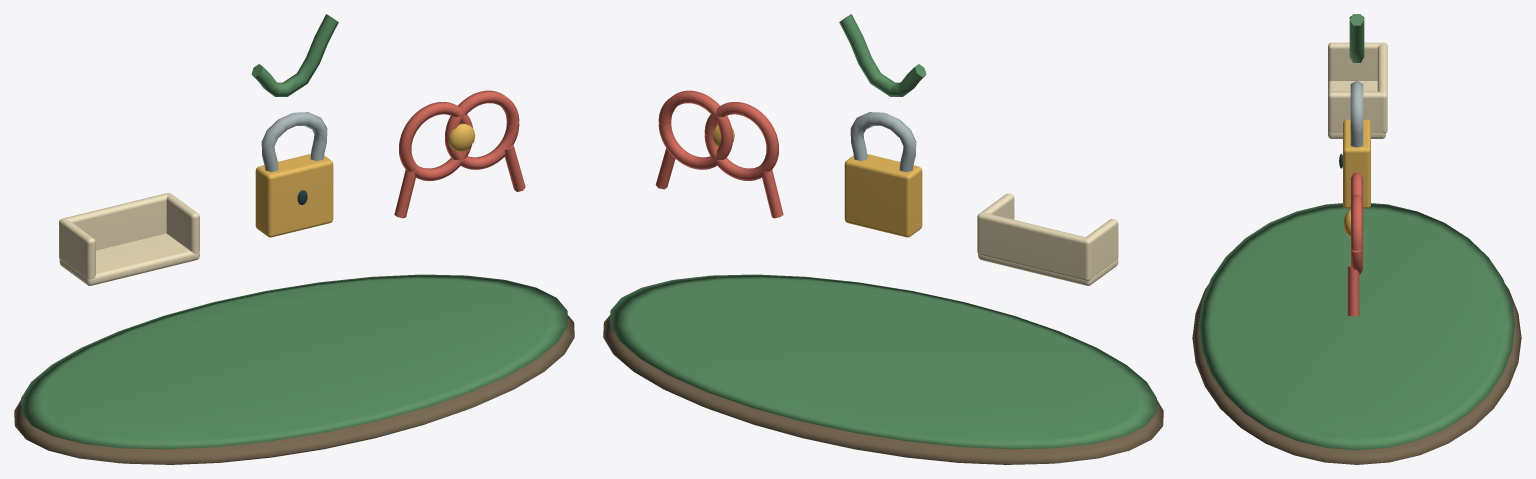
Rendered from complete-first-no-bound-connection.glb.
The picture shows the model from 3 angles, left to right: view 1: azimuth 30°, elevation 25°; view 2: azimuth 150°, elevation 25°; view 3: azimuth 270°, elevation 25°; orthographic projection. The views are drawn at different scales.
Parts seen in each view (by area): view 1: complete-first-no-bound-connection_surface_01, complete-first-no-bound-connection_surface_00, complete-first-no-bound-connection_surface_02, complete-first-no-bound-connection_surface_03, complete-first-no-bound-connection_surface_06, complete-first-no-bound-connection_surface_04; view 2: complete-first-no-bound-connection_surface_01, complete-first-no-bound-connection_surface_00, complete-first-no-bound-connection_surface_02, complete-first-no-bound-connection_surface_06, complete-first-no-bound-connection_surface_03, complete-first-no-bound-connection_surface_04; view 3: complete-first-no-bound-connection_surface_01, complete-first-no-bound-connection_surface_00, complete-first-no-bound-connection_surface_02, complete-first-no-bound-connection_surface_03, complete-first-no-bound-connection_surface_06, complete-first-no-bound-connection_surface_04.
Boxes of the visible parts, bbox=[...] form: complete-first-no-bound-connection_surface_01: bbox=[21, 14, 567, 449]; complete-first-no-bound-connection_surface_00: bbox=[14, 315, 574, 464]; complete-first-no-bound-connection_surface_02: bbox=[59, 193, 199, 285]; complete-first-no-bound-connection_surface_03: bbox=[255, 123, 475, 237]; complete-first-no-bound-connection_surface_06: bbox=[394, 90, 525, 218]; complete-first-no-bound-connection_surface_04: bbox=[261, 112, 327, 171]; complete-first-no-bound-connection_surface_01: bbox=[610, 14, 1156, 449]; complete-first-no-bound-connection_surface_00: bbox=[603, 315, 1163, 464]; complete-first-no-bound-connection_surface_02: bbox=[977, 193, 1118, 285]; complete-first-no-bound-connection_surface_06: bbox=[655, 90, 783, 218]; complete-first-no-bound-connection_surface_03: bbox=[712, 125, 922, 237]; complete-first-no-bound-connection_surface_04: bbox=[850, 112, 916, 171]; complete-first-no-bound-connection_surface_01: bbox=[1199, 14, 1514, 450]; complete-first-no-bound-connection_surface_00: bbox=[1192, 284, 1521, 464]; complete-first-no-bound-connection_surface_02: bbox=[1328, 42, 1387, 138]; complete-first-no-bound-connection_surface_03: bbox=[1343, 119, 1370, 237]; complete-first-no-bound-connection_surface_06: bbox=[1347, 173, 1362, 316]; complete-first-no-bound-connection_surface_04: bbox=[1350, 80, 1363, 147].
Bounding box in the file's own units: 4.56 × 2.98 × 2.5.
